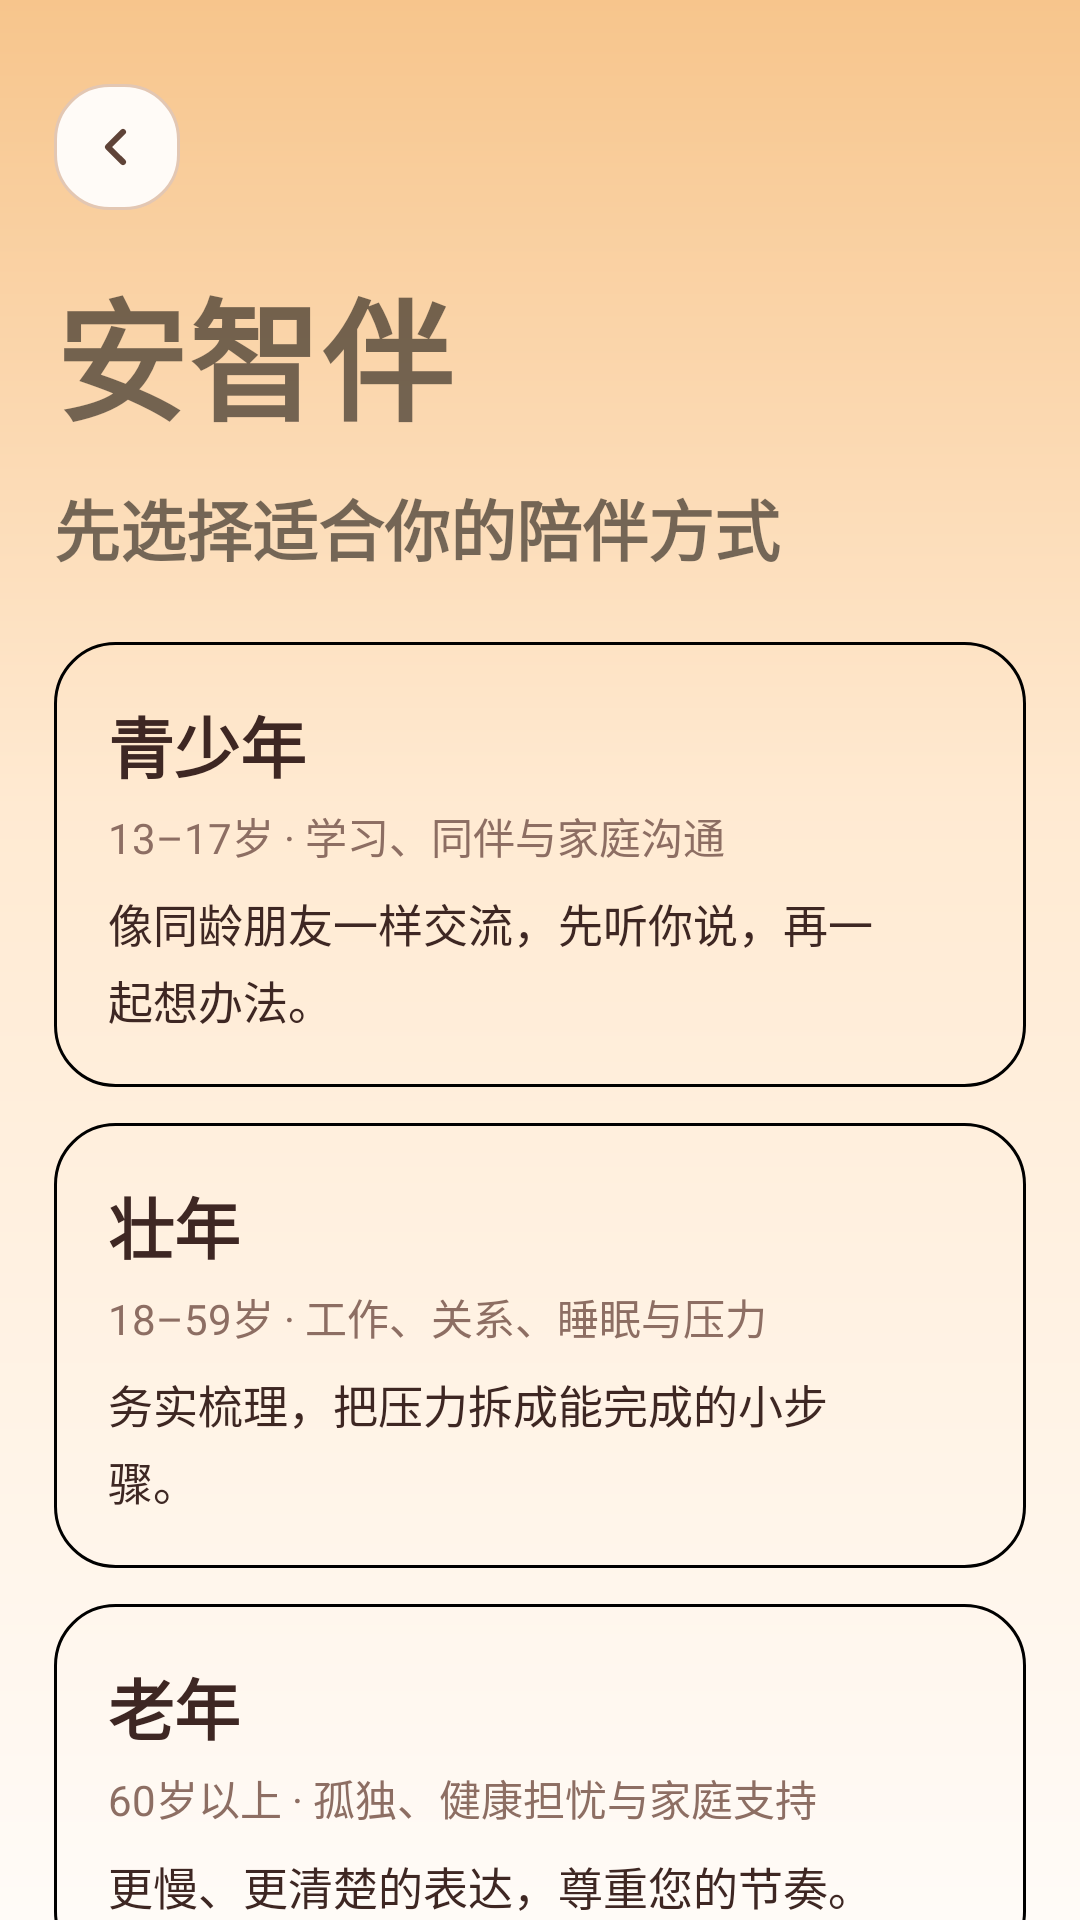

Named icons in this screenshot (1080 × 1920) and their bounding boxes, (x1, y1, x2, y2):
返回: (57, 87, 177, 207)
